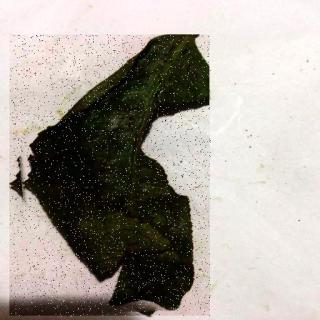Red Leaf Spot: (11, 36, 212, 318)
